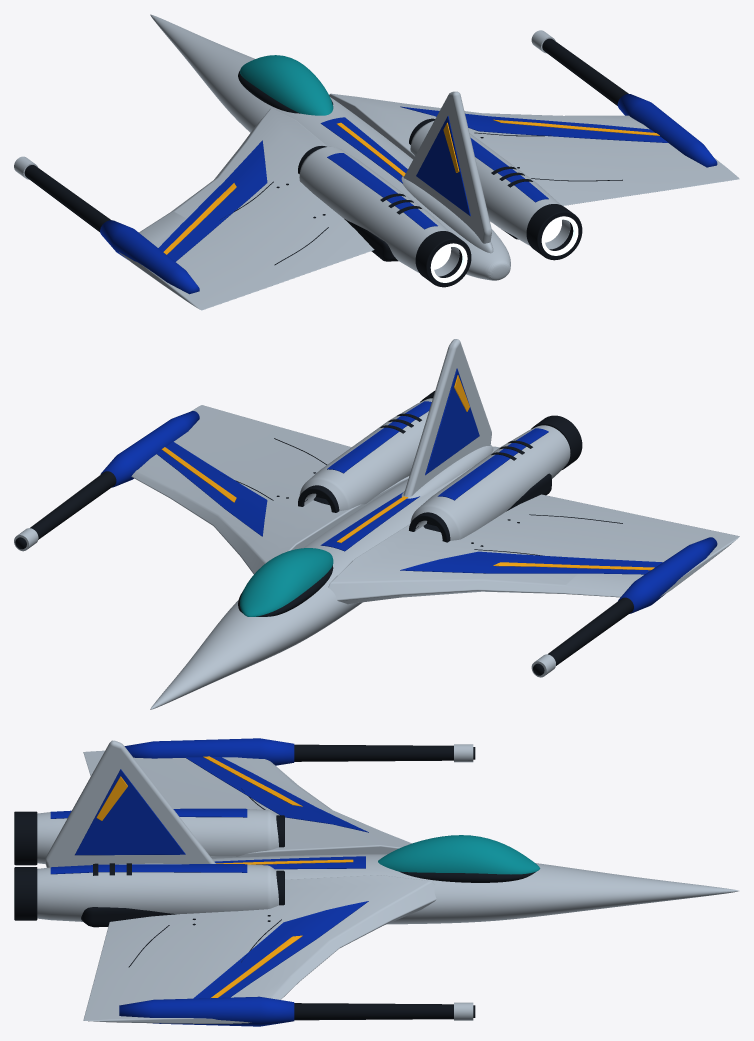
The model's file is interceptor.glb.
3 views of the same model, one above another, from view 1: azimuth 30°, elevation 25°; view 2: azimuth 150°, elevation 25°; view 3: azimuth 270°, elevation 25° (orthographic). The views are drawn at different scales.
Parts seen in each view (by area): view 1: Starboard swept lifting wing_export, Port swept lifting wing_export, Continuous tapered fuselage_export, Starboard engine nacelle_export, Swept vertical stabilizer_export, Port engine nacelle_export, Teal bubble canopy_export, Starboard cobalt wing band_export, Port cobalt wing band_export, Starboard cannon mounting fairing_export, Port cannon mounting fairing_export, Starboard cobalt fin inset_export (+14 smaller); view 2: Starboard swept lifting wing_export, Port swept lifting wing_export, Continuous tapered fuselage_export, Starboard engine nacelle_export, Port engine nacelle_export, Swept vertical stabilizer_export, Teal bubble canopy_export, Starboard cobalt wing band_export, Port cobalt wing band_export, Starboard cannon mounting fairing_export, Port cannon mounting fairing_export, Starboard cobalt fin inset_export (+9 smaller); view 3: Port swept lifting wing_export, Continuous tapered fuselage_export, Port engine nacelle_export, Starboard swept lifting wing_export, Swept vertical stabilizer_export, Teal bubble canopy_export, Port cobalt fin inset_export, Starboard engine nacelle_export, Port cannon mounting fairing_export, Port cobalt wing band_export, Starboard cannon mounting fairing_export, Starboard cobalt wing band_export (+11 smaller).
Boxes of the visible parts, box(x1,y1,x2,y2) form: Starboard swept lifting wing_export: box(119, 108, 374, 310); Port swept lifting wing_export: box(329, 93, 739, 205); Continuous tapered fuselage_export: box(150, 14, 510, 280); Starboard engine nacelle_export: box(299, 146, 459, 276); Swept vertical stabilizer_export: box(403, 91, 491, 243); Port engine nacelle_export: box(410, 121, 570, 249); Teal bubble canopy_export: box(240, 55, 333, 115); Starboard cobalt wing band_export: box(158, 140, 267, 261); Port cobalt wing band_export: box(400, 106, 668, 142); Starboard cannon mounting fairing_export: box(100, 220, 199, 294); Port cannon mounting fairing_export: box(617, 94, 717, 167); Starboard cobalt fin inset_export: box(416, 116, 470, 216); Starboard swept lifting wing_export: box(328, 494, 739, 604); Port swept lifting wing_export: box(131, 405, 409, 574); Continuous tapered fuselage_export: box(150, 446, 499, 709); Starboard engine nacelle_export: box(410, 425, 570, 540); Port engine nacelle_export: box(299, 398, 432, 511); Swept vertical stabilizer_export: box(403, 339, 491, 496); Teal bubble canopy_export: box(240, 548, 333, 616); Starboard cobalt wing band_export: box(400, 551, 662, 574); Port cobalt wing band_export: box(156, 441, 267, 536); Starboard cannon mounting fairing_export: box(618, 537, 717, 613); Port cannon mounting fairing_export: box(100, 411, 199, 487); Starboard cobalt fin inset_export: box(425, 368, 479, 475); Port swept lifting wing_export: box(83, 875, 436, 1023); Continuous tapered fuselage_export: box(212, 854, 738, 924); Port engine nacelle_export: box(37, 864, 278, 921); Starboard swept lifting wing_export: box(83, 750, 411, 858); Swept vertical stabilizer_export: box(45, 740, 215, 867); Teal bubble canopy_export: box(378, 835, 540, 874); Port cobalt fin inset_export: box(75, 769, 185, 855); Starboard engine nacelle_export: box(37, 809, 278, 863); Port cannon mounting fairing_export: box(119, 996, 294, 1026); Port cobalt wing band_export: box(193, 901, 368, 998); Starboard cannon mounting fairing_export: box(124, 738, 294, 765); Starboard cobalt wing band_export: box(185, 757, 368, 832).
Bounding box in the file's own units: 7.8 × 2.36 × 8.83.
